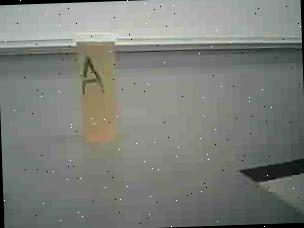Bottle A: (66, 23, 136, 160)
